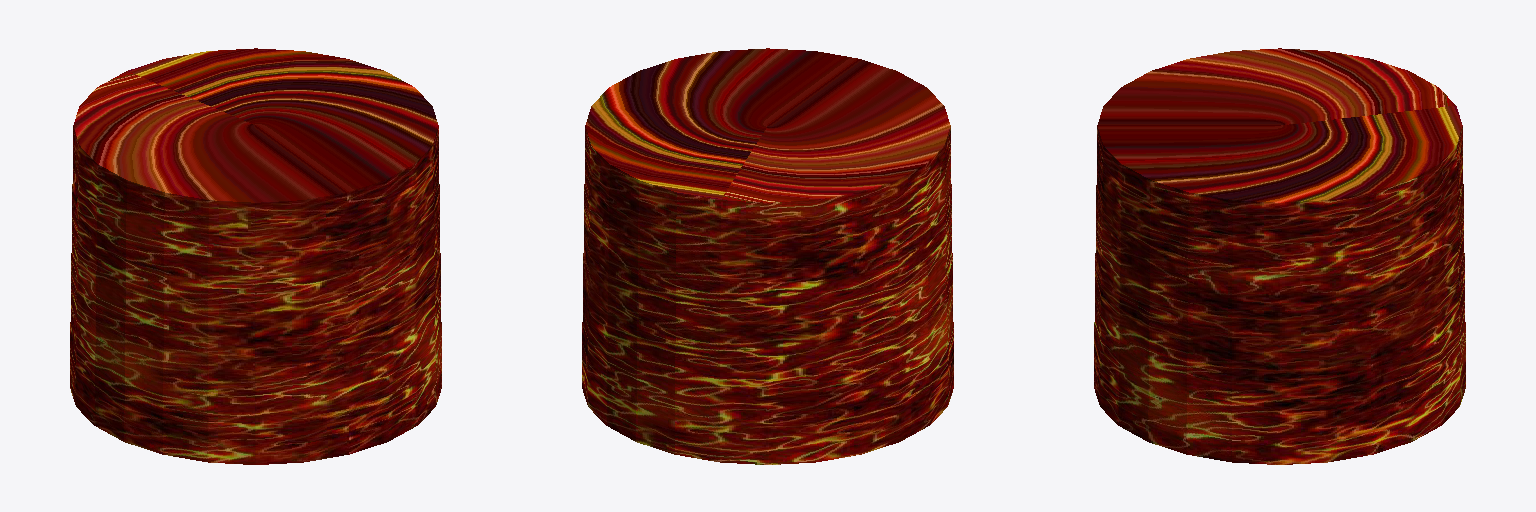
The picture shows the model from 3 angles: view 1: azimuth 30°, elevation 25°; view 2: azimuth 150°, elevation 25°; view 3: azimuth 270°, elevation 25°; orthographic projection.
Visible parts, largest first — view 1: Cone001; view 2: Cone001; view 3: Cone001.
Part boxes in pixels (x1,y1,x2,y2): Cone001: (70, 48, 441, 464); Cone001: (582, 48, 953, 464); Cone001: (1094, 48, 1465, 464).
Bounding box in the file's own units: 27.04 × 20.88 × 27.04.
1 materials, 1 textured.